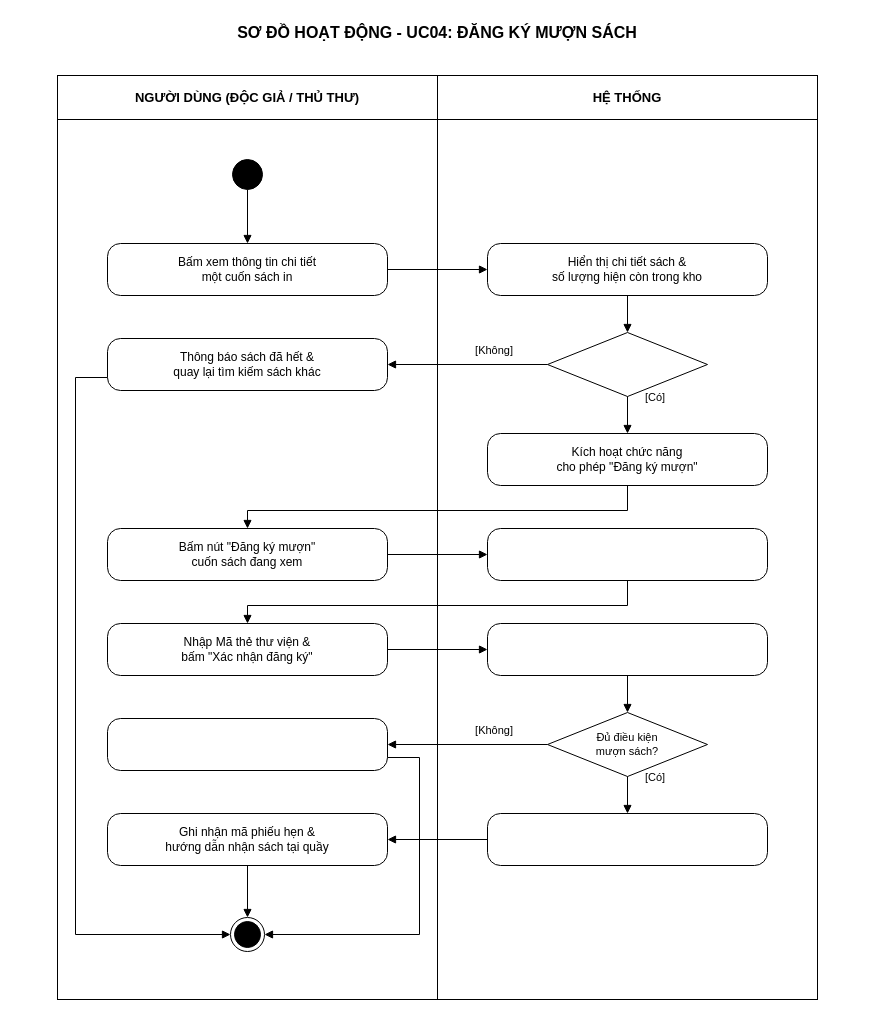
Image size: 874x1017. Some labels were removed from this diagram. Each missing label, with the centre of its shape:
"Hiển thị form đăng ký & yêu cầu nhập Mã thẻ thư viện" goes at pixel 627 554.
"Kiểm tra điều kiện mượn (hạn thẻ, sách nợ, max 3 cuốn)" goes at pixel 627 649.
"Lưu đăng ký, trừ kho (-1) & tạo phiếu hẹn giữ sách 48h" goes at pixel 627 839.
"Số lượng tồn kho > 0?" goes at pixel 627 364.
"Thông báo từ chối đăng ký (còn sách trễ / vượt quá 3 cuốn)" goes at pixel 247 744.
